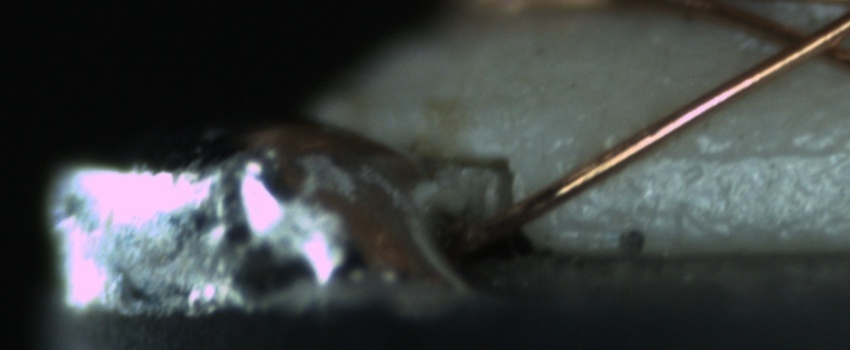CL: (752, 13, 846, 75)
DL: (640, 114, 848, 188)
